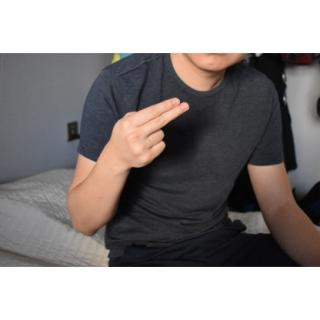AYN: (108, 96, 193, 176)
